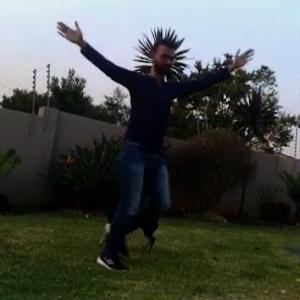takeoff: (67, 39, 236, 250)
